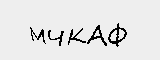А: (87, 25, 108, 46)
К: (69, 25, 86, 44)
М: (29, 26, 47, 44)
Ф: (107, 22, 127, 47)
Ч: (47, 28, 68, 44)
